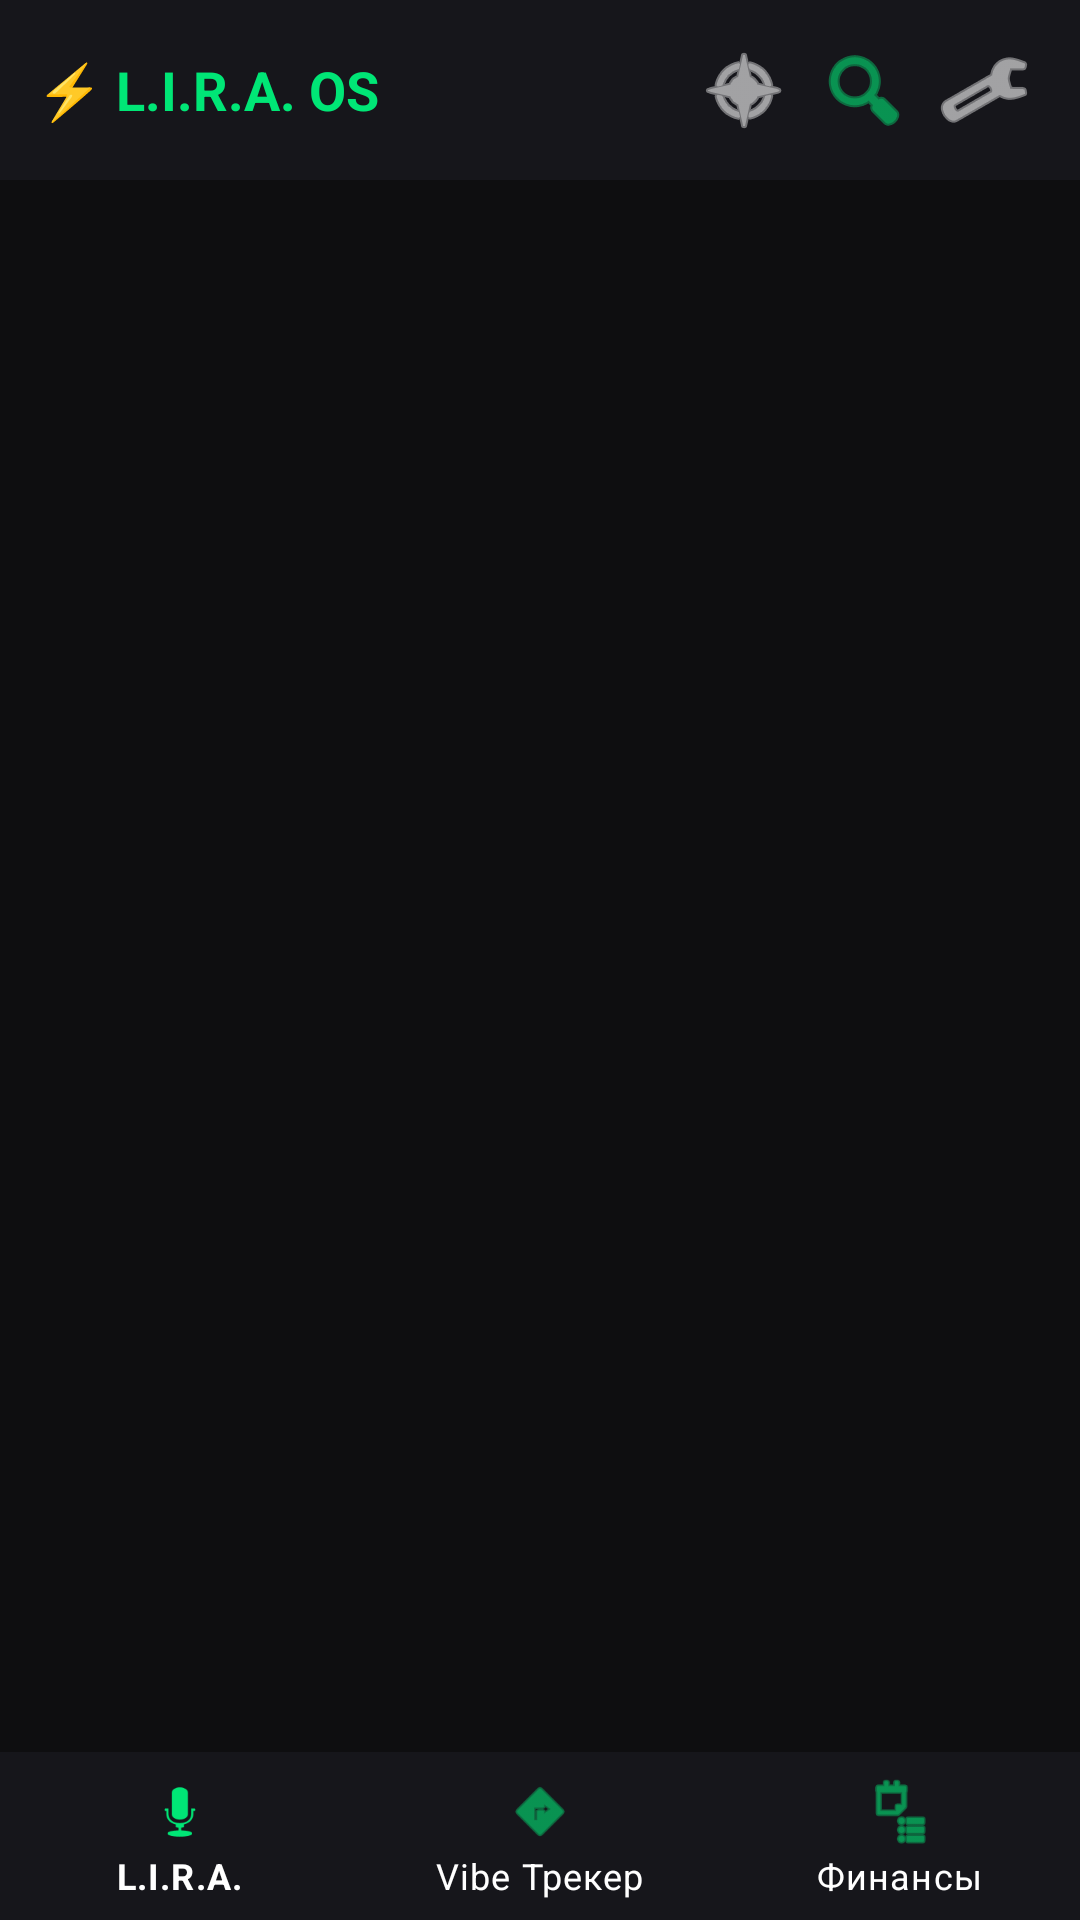

Where to tap for icons on this 1080px×1920px app screen, as (x=x, y=y):
Настройки: (x=984, y=90)
